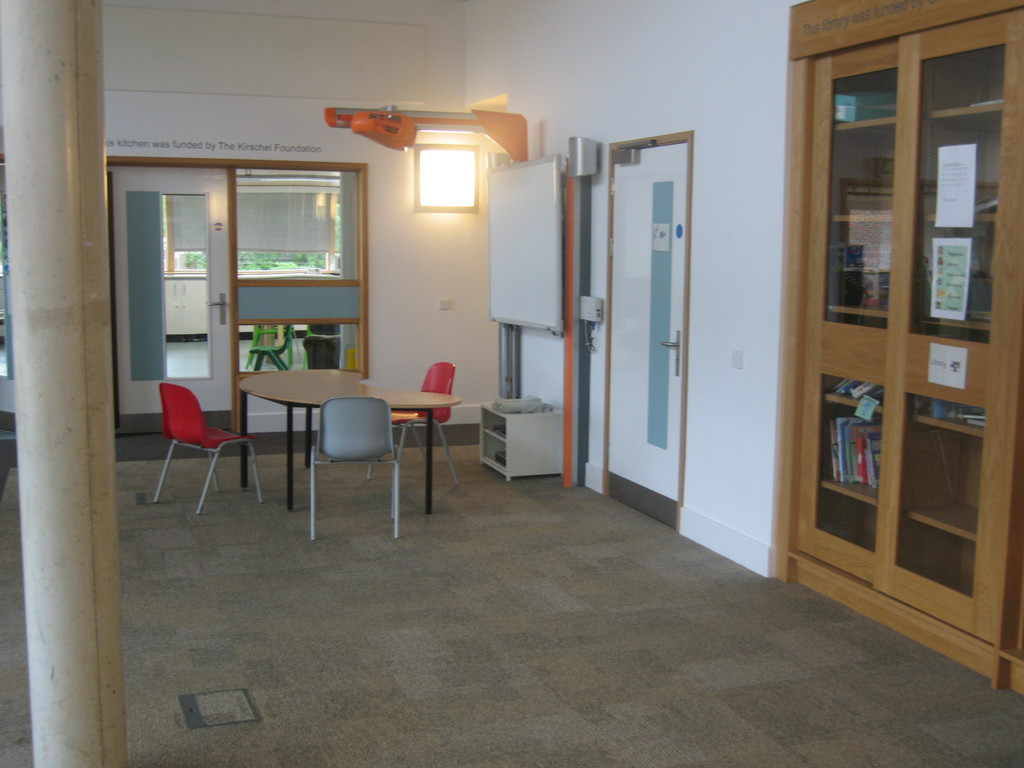cabinet door: (909, 55, 1007, 617), (818, 63, 883, 557)
door: (116, 169, 226, 404), (614, 154, 678, 492)
handle: (662, 331, 684, 371), (210, 292, 230, 323)
